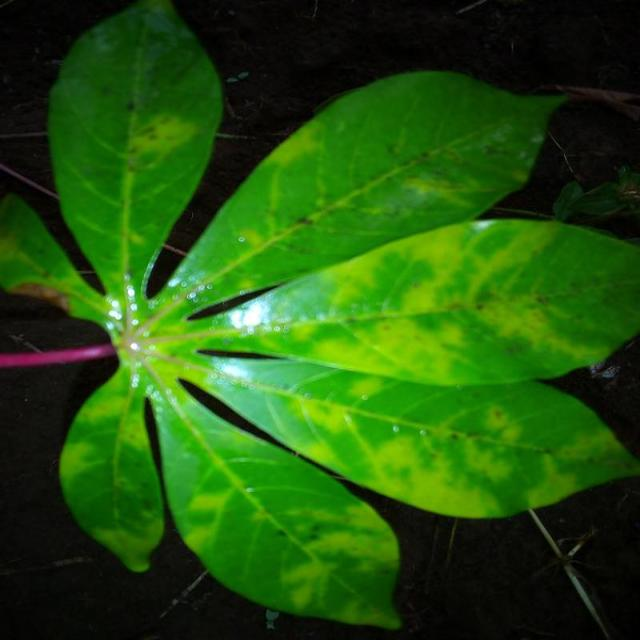cassava leaf: (0, 1, 638, 630)
